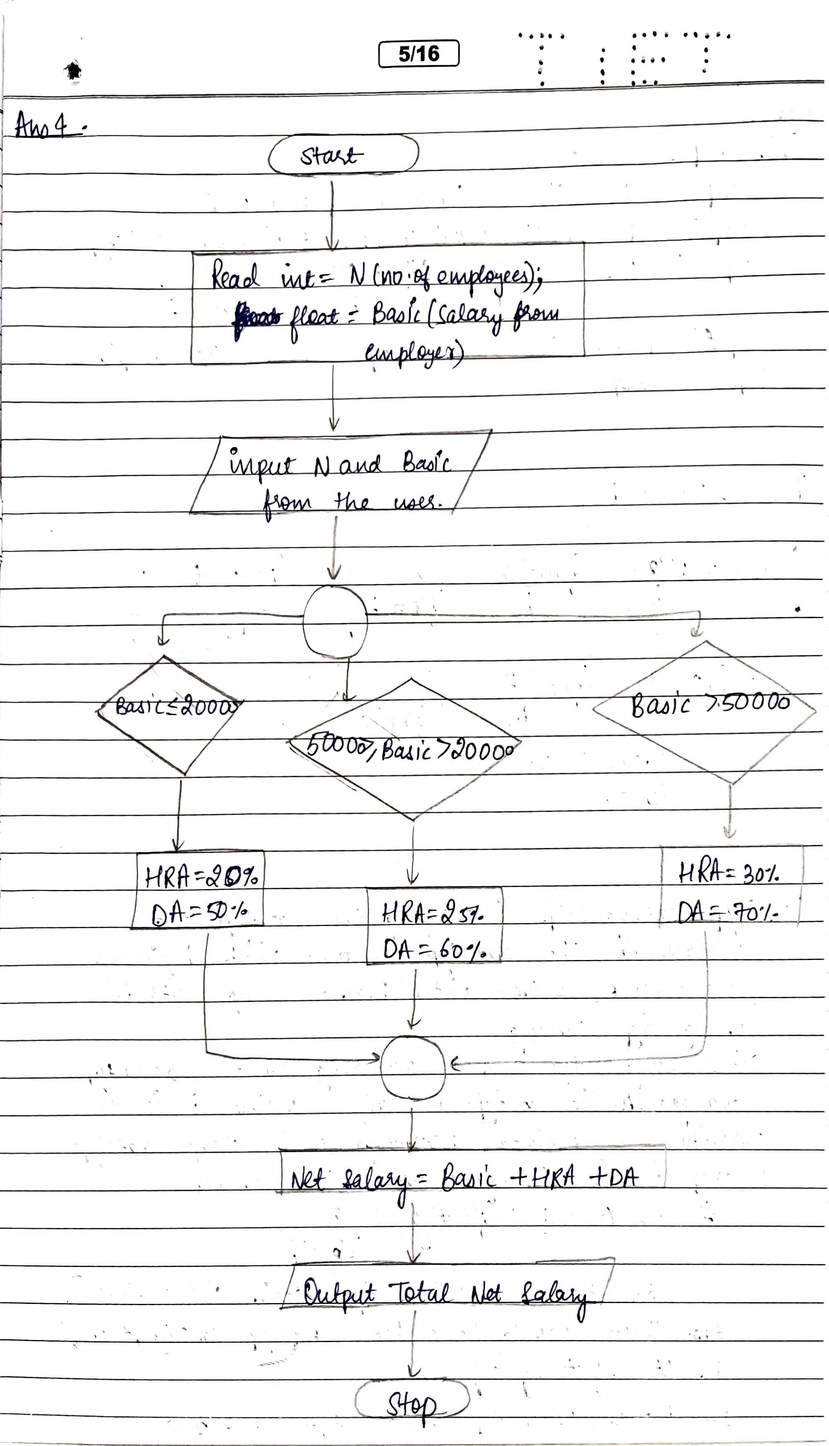cuttings: (232, 299, 284, 344)
